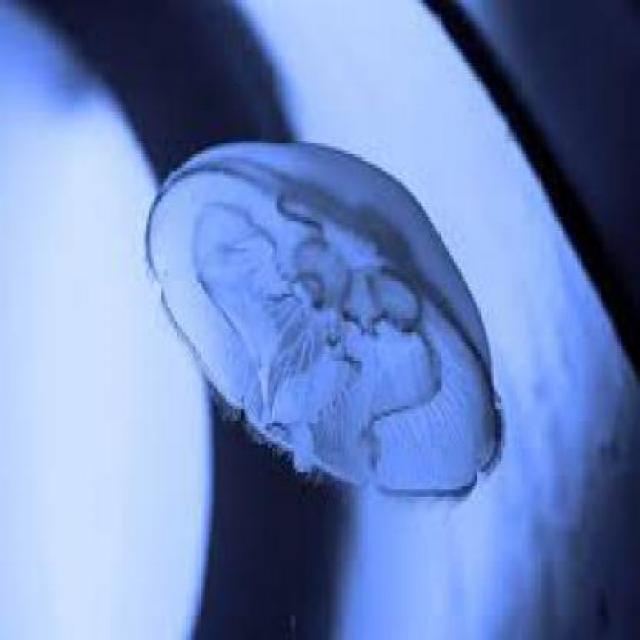Jellyfish: (138, 133, 506, 507)
